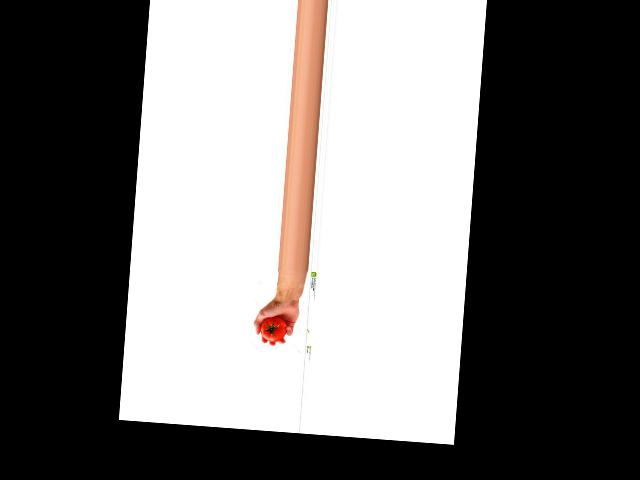tomato: (260, 315, 288, 342)
